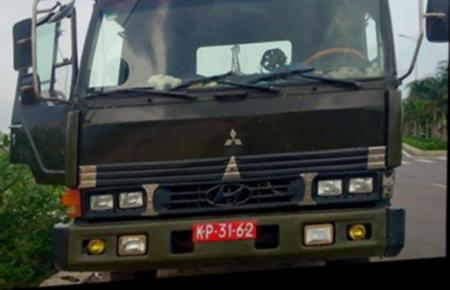License_Plate: (190, 215, 257, 246)
